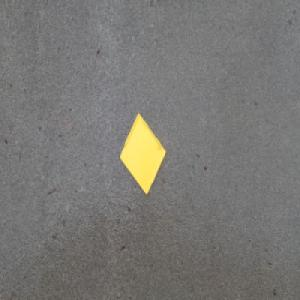PlasticPart: (119, 111, 166, 195)
